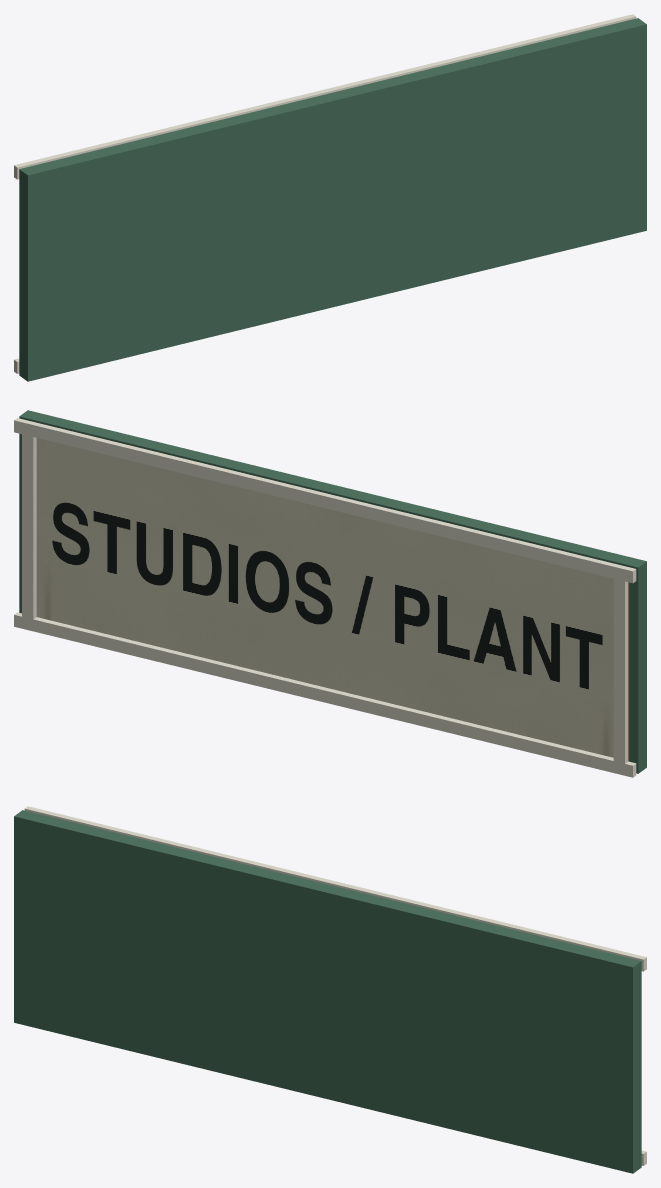
File: polarity.glb
3 views of the same model, one above another, from view 1: azimuth 30°, elevation 25°; view 2: azimuth 150°, elevation 25°; view 3: azimuth 330°, elevation 25° (orthographic).
Parts seen in each view (by area): view 1: lettering_study_services_light_enamel; view 2: lettering_study_services_light_enamel; view 3: lettering_study_services_light_enamel.
Part boxes in pixels (x1,y1,x2,y2): lettering_study_services_light_enamel: (14,14,646,381); lettering_study_services_light_enamel: (14,410,646,777); lettering_study_services_light_enamel: (14,806,646,1173).
Bounding box in the file's own units: 2.7 × 0.86 × 0.105.
Materials: 4 (1 with a texture image).
